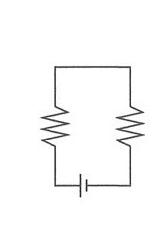resistor: (106, 84, 152, 165), (28, 90, 73, 157)
